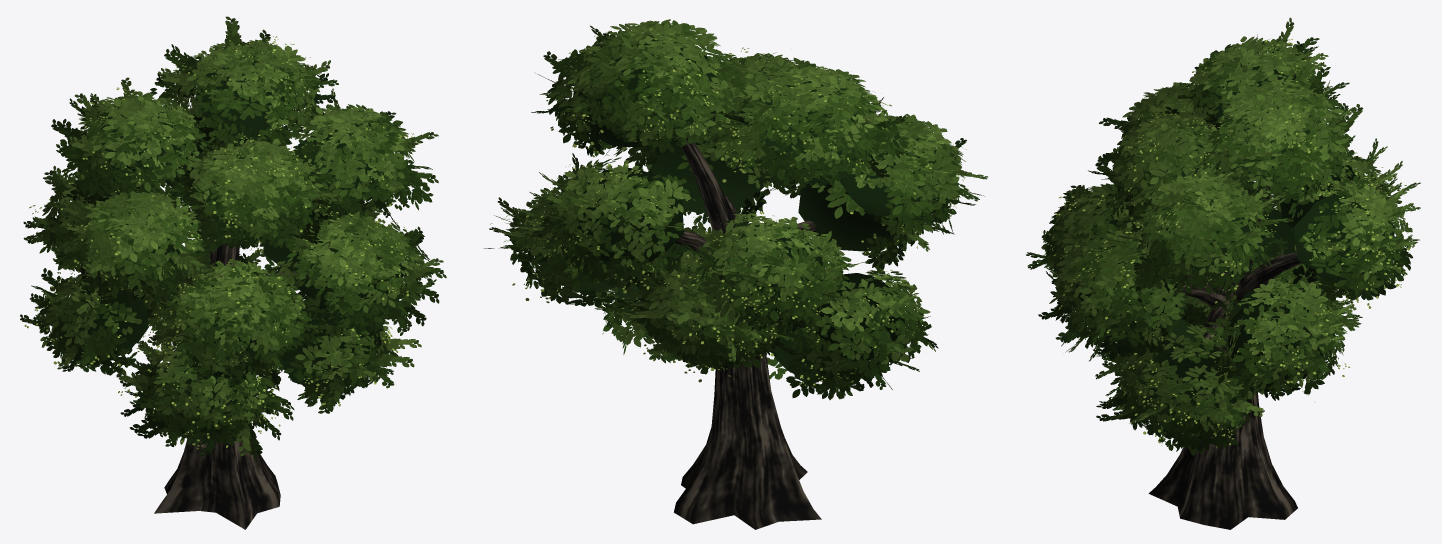
Rendered from CreTree09.glb.
The picture shows the model from 3 angles, left to right: view 1: azimuth 30°, elevation 25°; view 2: azimuth 150°, elevation 25°; view 3: azimuth 270°, elevation 25°; orthographic projection. The views are drawn at different scales.
Parts seen in each view (by area): view 1: CreTree09_leaves; view 2: CreTree09_leaves; view 3: CreTree09_leaves.
Part boxes in pixels (x1,y1,x2,y2): CreTree09_leaves: (20, 16, 446, 529); CreTree09_leaves: (484, 19, 987, 529); CreTree09_leaves: (1026, 17, 1420, 529).
Size of the model in its own units: 8.63 by 9.17 by 7.5.
Materials: 3 (2 with a texture image).
